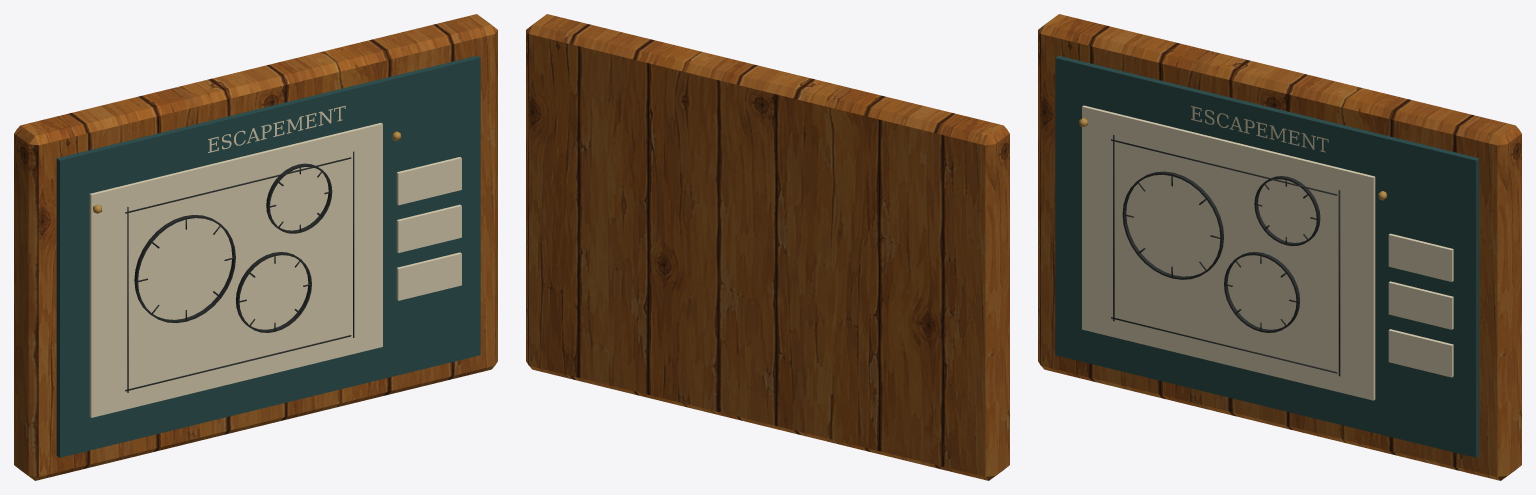
3 renders of one model, left to right at view 1: azimuth 30°, elevation 25°; view 2: azimuth 150°, elevation 25°; view 3: azimuth 330°, elevation 25°, orthographic.
Visible parts, largest first — view 1: clockshop_ivory, clockshop_teal, clockshop_walnut, clockshop_ink; view 2: clockshop_walnut; view 3: clockshop_ivory, clockshop_teal, clockshop_walnut, clockshop_ink.
Part boxes in pixels (bbox=[...]): clockshop_ivory: bbox=[89, 105, 461, 417]; clockshop_teal: bbox=[56, 55, 480, 457]; clockshop_walnut: bbox=[14, 14, 497, 480]; clockshop_ink: bbox=[125, 151, 354, 392]; clockshop_walnut: bbox=[526, 14, 1009, 480]; clockshop_ivory: bbox=[1082, 105, 1453, 400]; clockshop_teal: bbox=[1055, 55, 1479, 457]; clockshop_walnut: bbox=[1038, 14, 1521, 480]; clockshop_ink: bbox=[1111, 135, 1340, 376].
Bounding box in the file's own units: 1.85 × 1.3 × 0.2203.
Materials: 5 (1 with a texture image).
